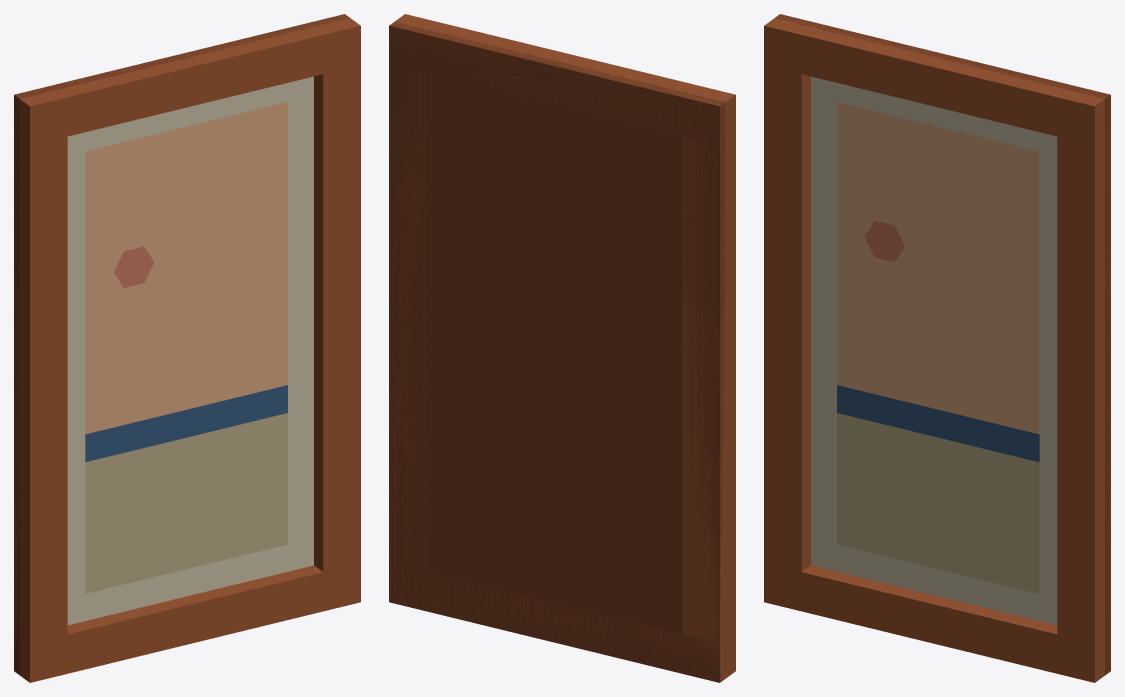
File: picture-frame-30.glb
The picture shows the model from 3 angles, left to right: view 1: azimuth 30°, elevation 25°; view 2: azimuth 150°, elevation 25°; view 3: azimuth 330°, elevation 25°; orthographic projection.
Parts seen in each view (by area): view 1: picture_frame_30; view 2: picture_frame_30; view 3: picture_frame_30.
Boxes of the visible parts, x1,y1,x2,y2 form: picture_frame_30: [14, 14, 360, 682]; picture_frame_30: [389, 14, 735, 682]; picture_frame_30: [764, 14, 1110, 682].
Size of the model in its own units: 0.3956 by 0.6589 by 0.0332.
